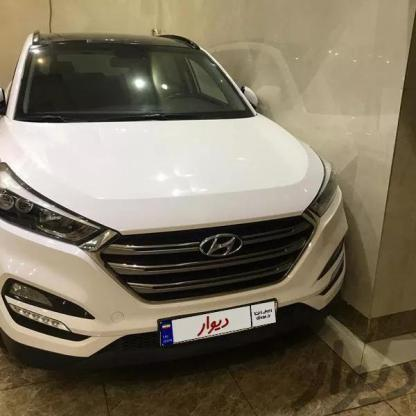Car: (0, 18, 358, 360)
